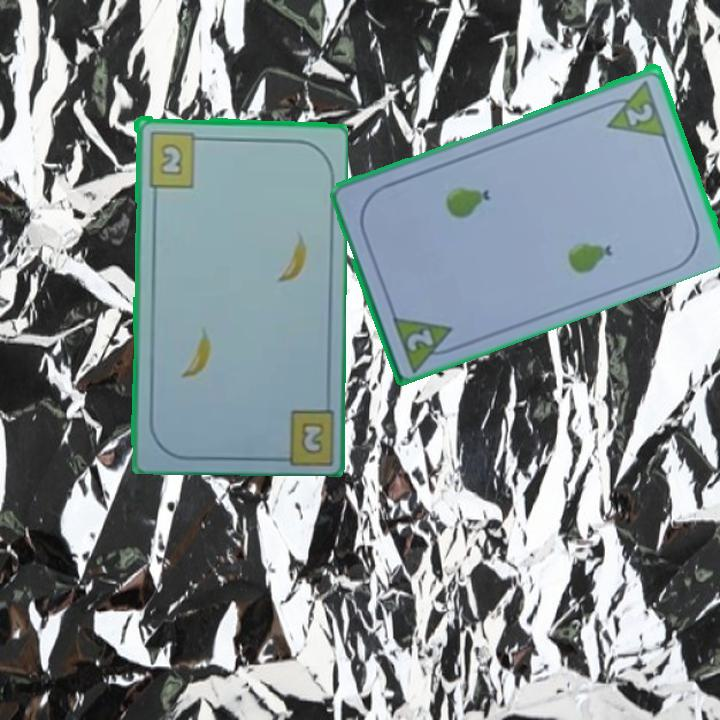2b: (144, 128, 207, 189), (297, 418, 326, 457)
2p: (388, 309, 462, 373), (622, 99, 656, 128)
